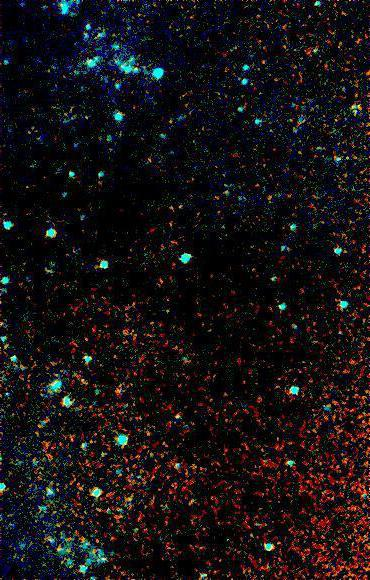star: (146, 266, 176, 296)
